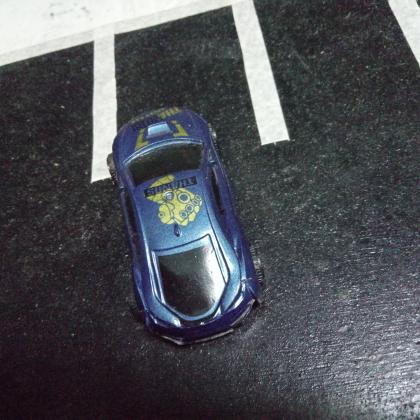Car: (104, 104, 267, 347)
